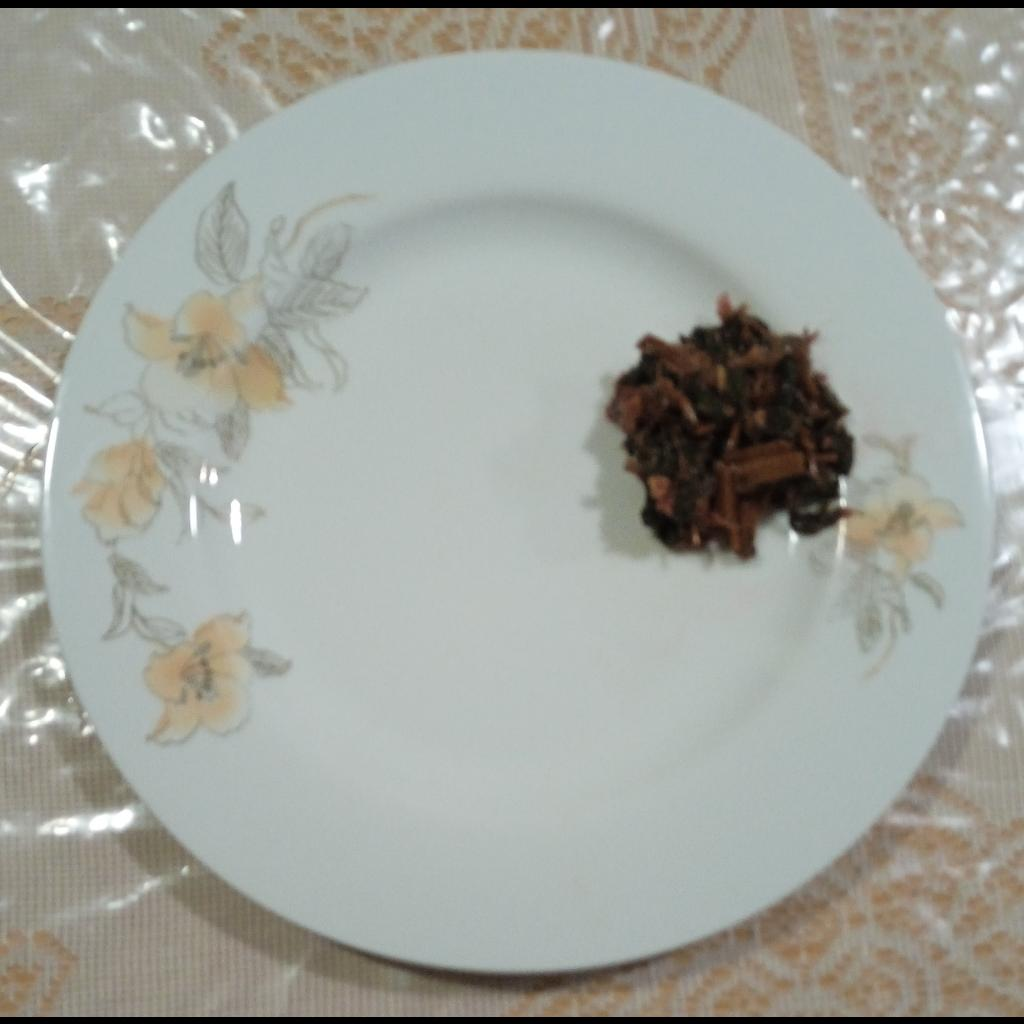shak: (600, 289, 855, 558)
